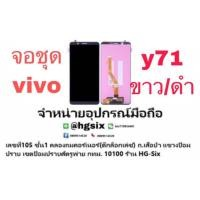phone: (98, 38, 135, 108), (66, 39, 101, 106)
